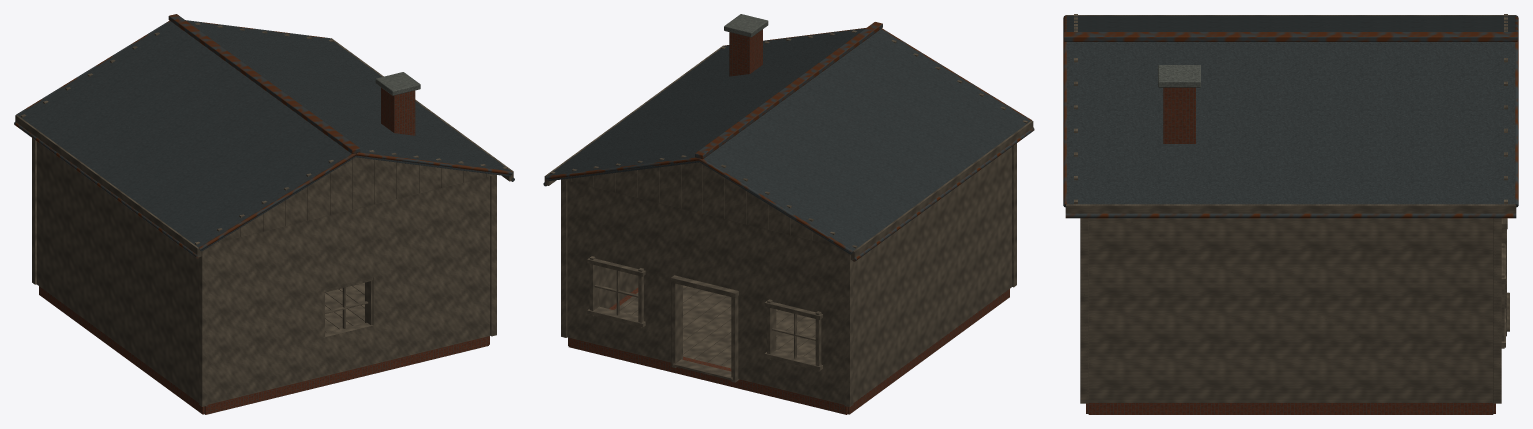
The model's file is Farmhouse_LOD2.fbx.
3 views of the same model, side by side, from view 1: azimuth 30°, elevation 25°; view 2: azimuth 150°, elevation 25°; view 3: azimuth 270°, elevation 25° (orthographic). The views are drawn at different scales.
Visible parts, largest first — view 1: Farmhouse_LOD2; view 2: Farmhouse_LOD2; view 3: Farmhouse_LOD2.
Boxes of the visible parts, x1=… form: Farmhouse_LOD2: x1=14, y1=14, x2=514, y2=414; Farmhouse_LOD2: x1=543, y1=14, x2=1034, y2=414; Farmhouse_LOD2: x1=1063, y1=14, x2=1518, y2=414.
Bounding box in the file's own units: 899 × 673 × 899.
